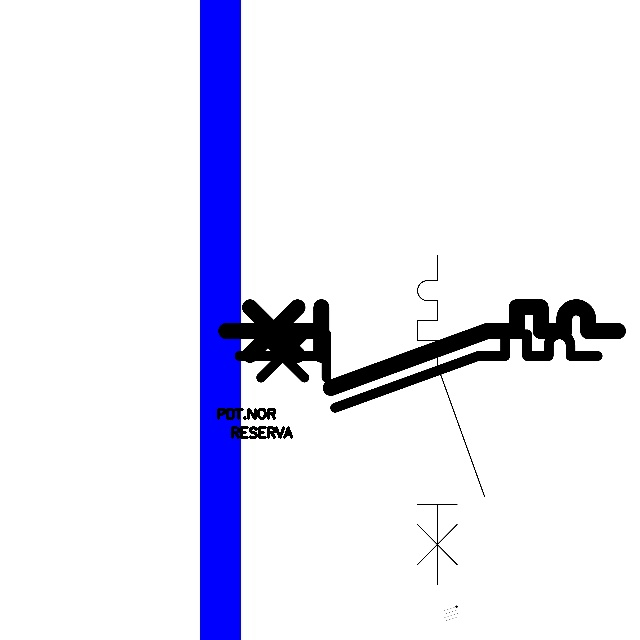interruptor_termomagnetico: (216, 297, 628, 398), (230, 325, 607, 417), (409, 247, 493, 593)
